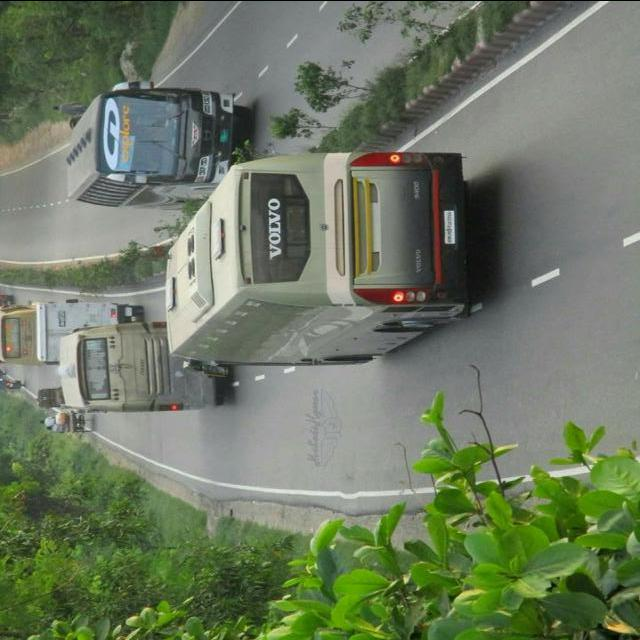bus: (163, 151, 471, 377), (67, 89, 254, 211), (58, 321, 218, 414)
